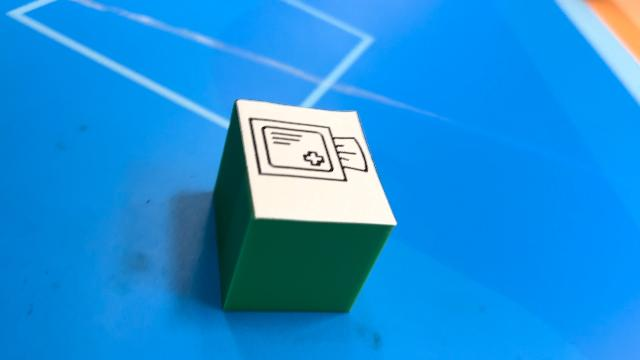napkin: (210, 101, 400, 312)
